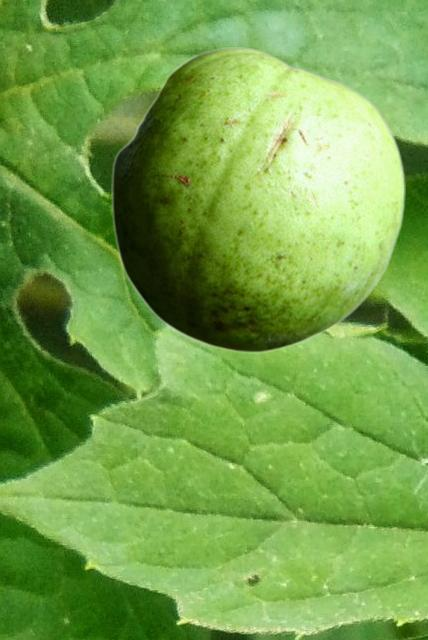guava: (111, 47, 404, 352)
